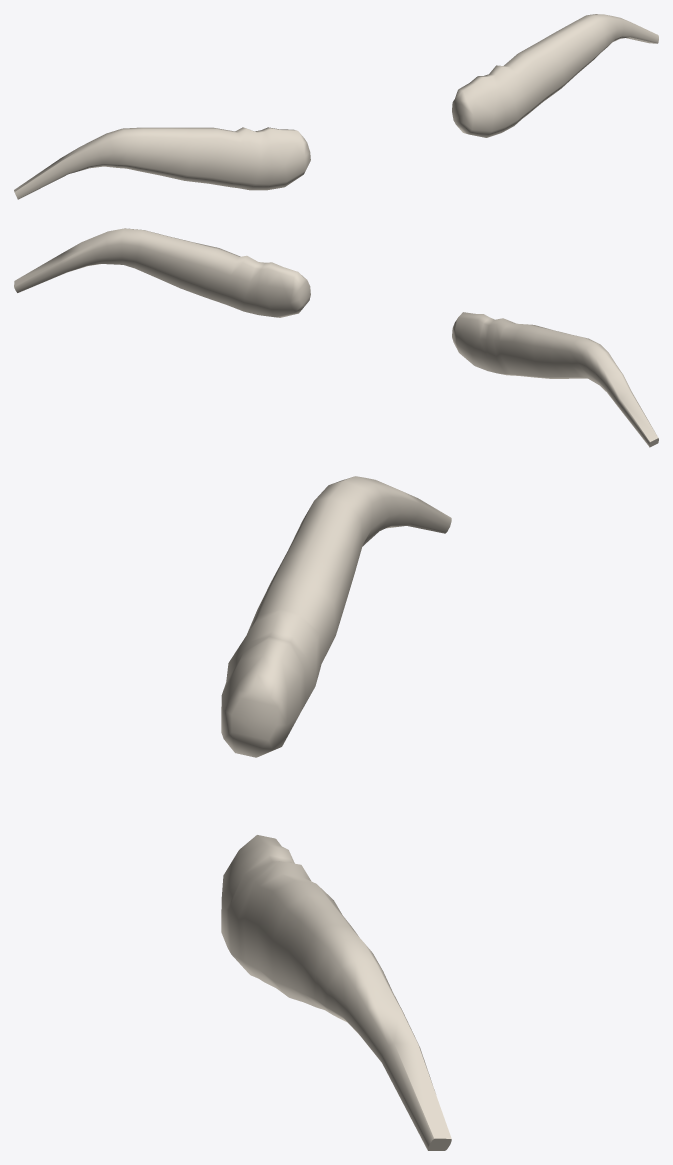
The model's file is Eyebrows_09_07.fbx.
3 views of the same model, one above another, from view 1: azimuth 30°, elevation 25°; view 2: azimuth 150°, elevation 25°; view 3: azimuth 270°, elevation 25° (orthographic). The views are drawn at different scales.
Parts seen in each view (by area): view 1: Eyebrows_09_07; view 2: Eyebrows_09_07; view 3: Eyebrows_09_07.
Boxes of the visible parts, box(x1,y1,x2,y2) form: Eyebrows_09_07: box(14, 14, 658, 199); Eyebrows_09_07: box(14, 228, 658, 447); Eyebrows_09_07: box(221, 476, 451, 1150).
Size of the model in its own units: 19.2 by 2.07 by 2.98.
